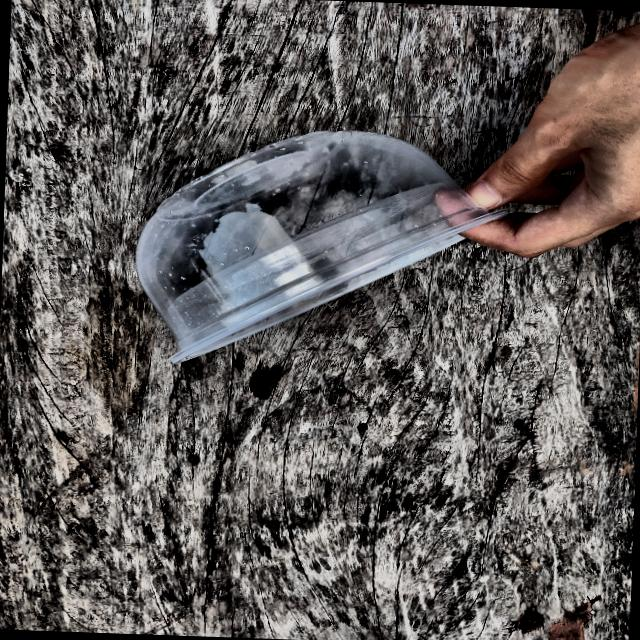plastic container: (106, 112, 537, 389)
